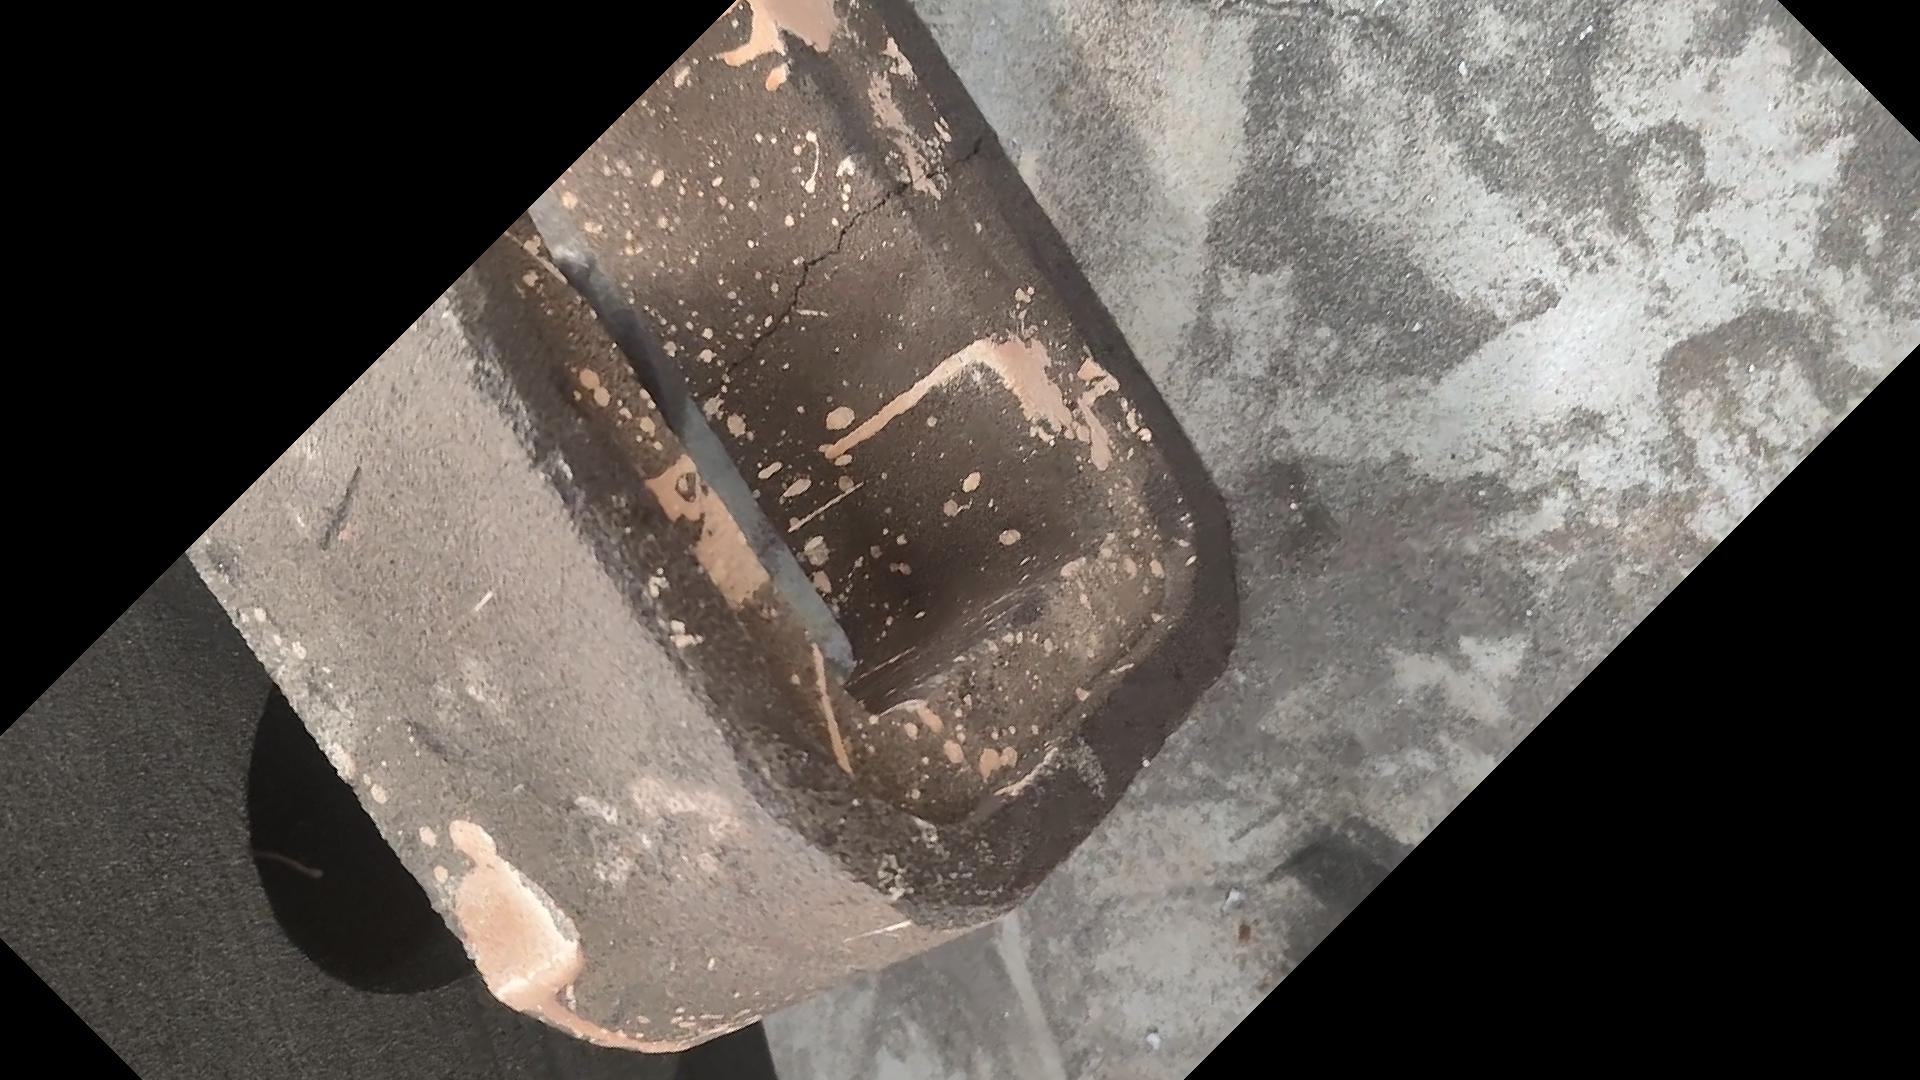pouring hole: (247, 632, 514, 993)
